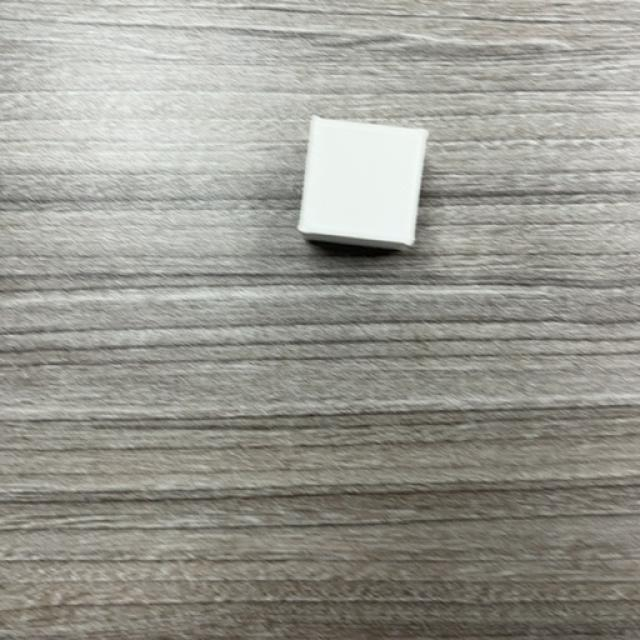Blanco: (298, 118, 428, 254)
